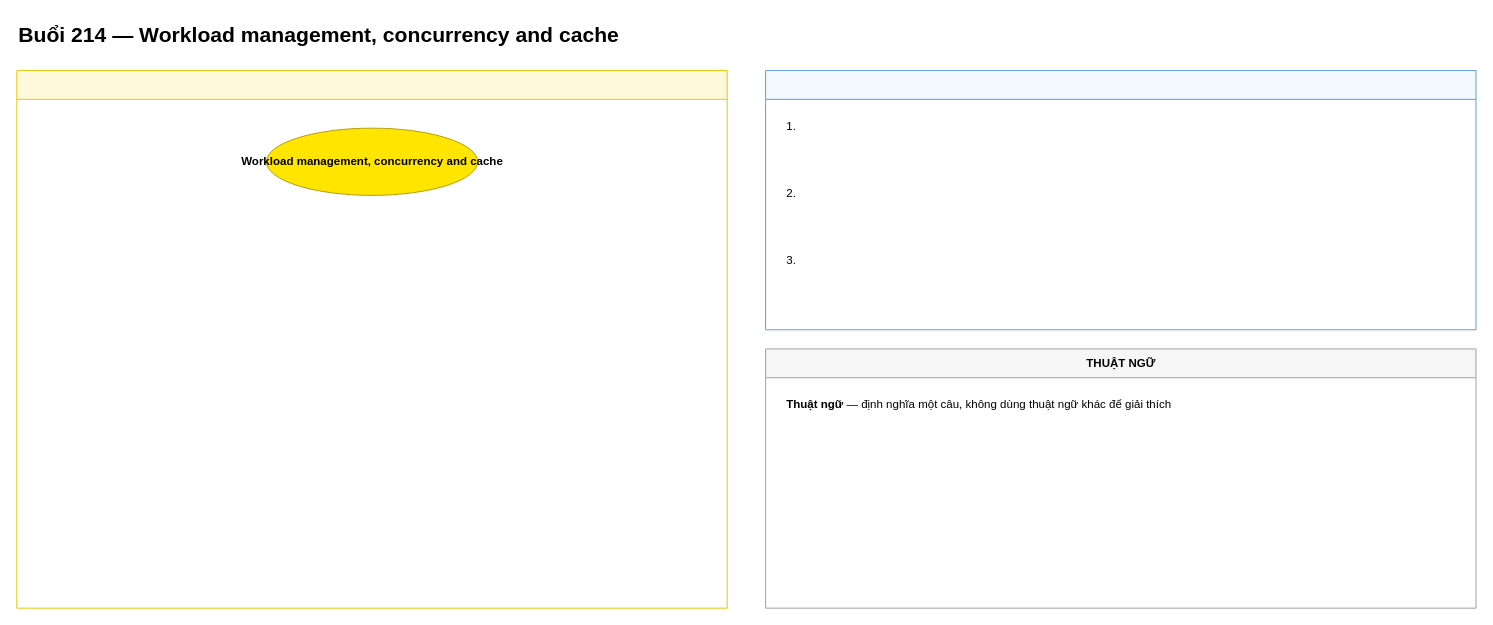
Some shapes in this 1493 by 625 pixel diagram are drawn without their labels. The shapes that lost their labels are listed below. From the top down, each one's box as (x1, y1, x2, y2) in pixels, then its label:
(765, 70, 1476, 330): KEY TAKEAWAY — ba điều phải nhớ
(16, 70, 727, 608): MINDMAP
